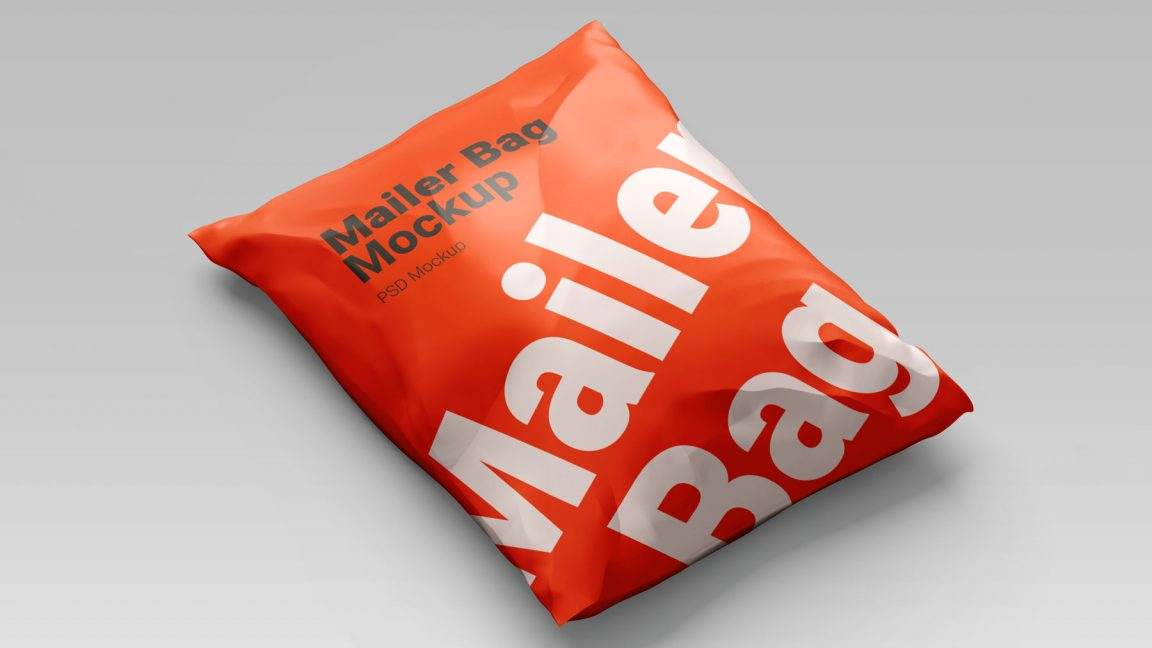塑料袋: (192, 29, 971, 623)
